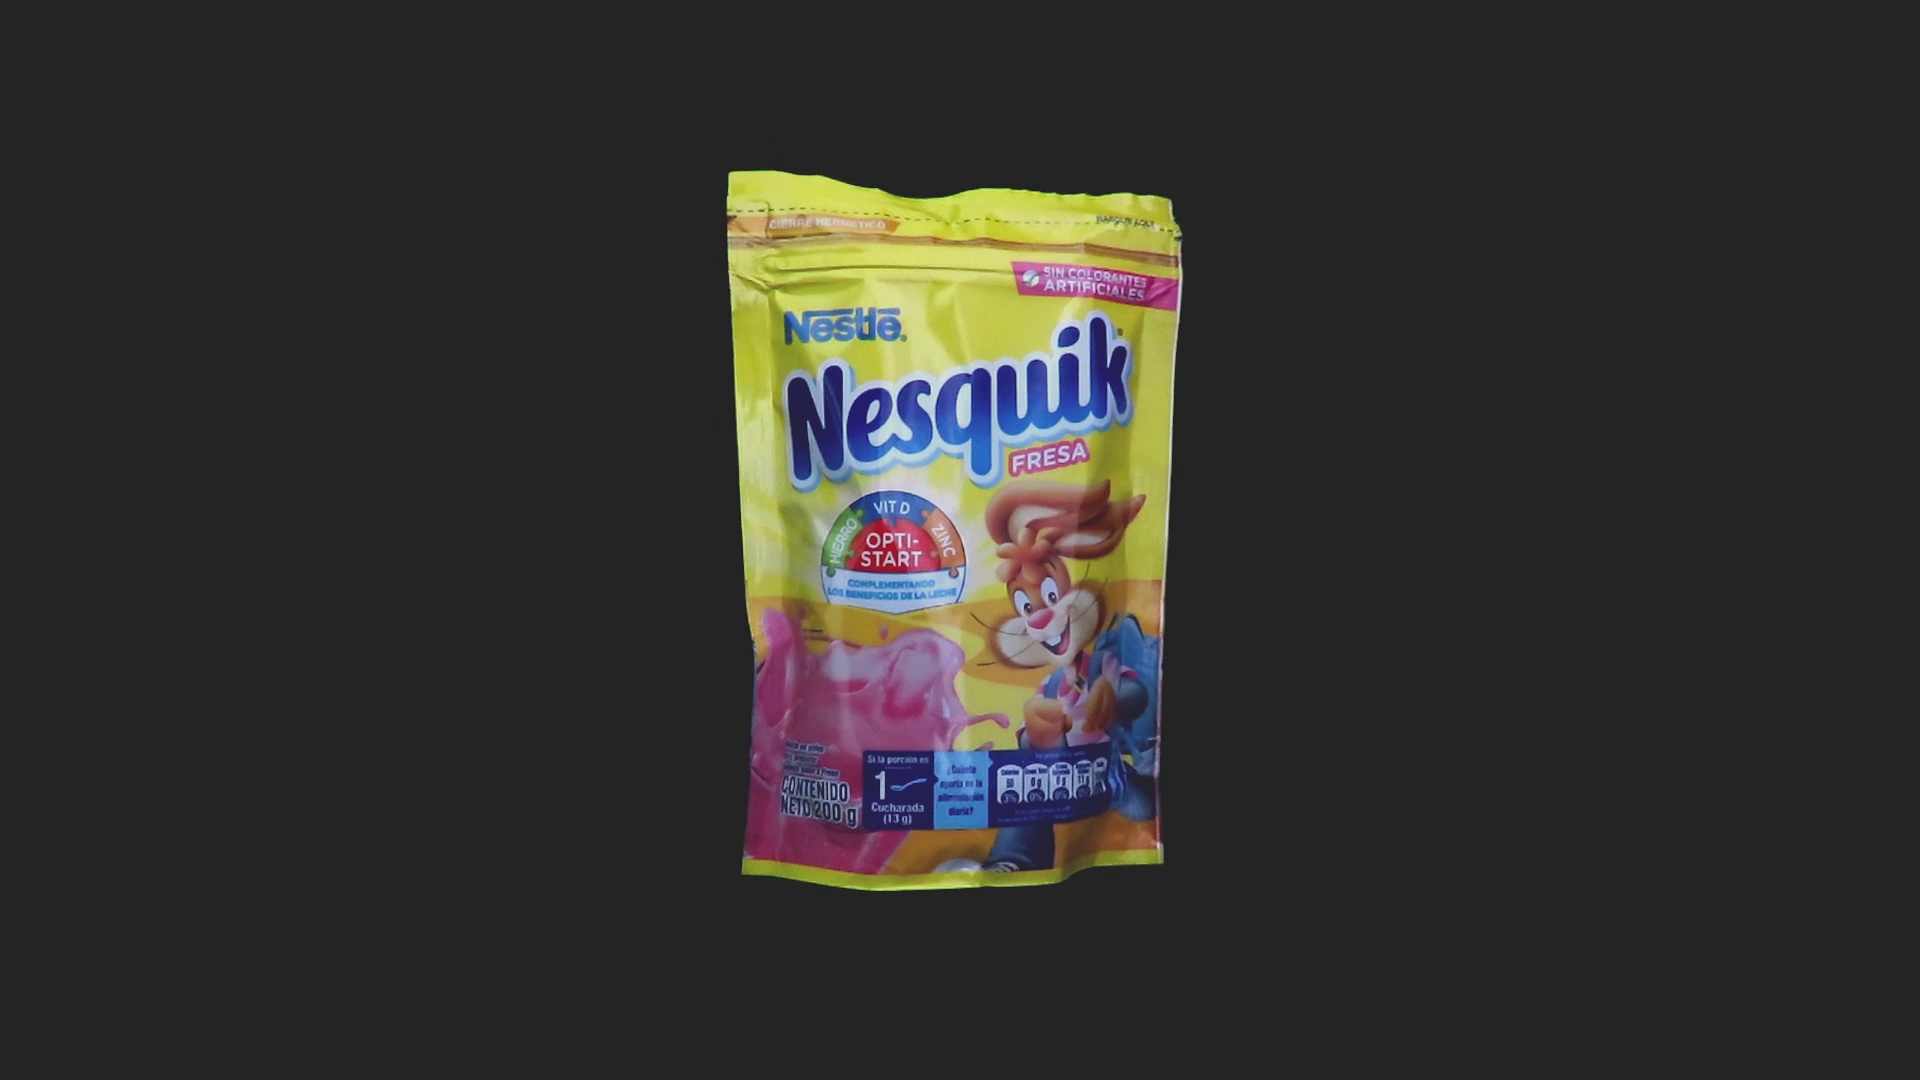COL0170305DYP20000: (721, 165, 1189, 897)
